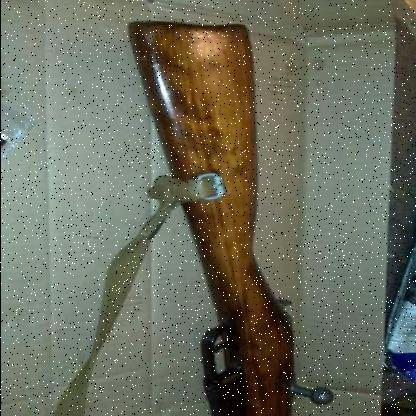rifle: (115, 14, 313, 415)
